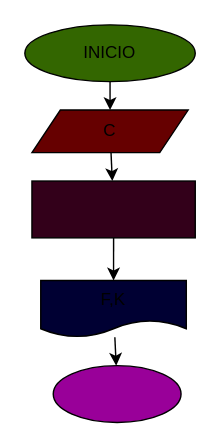
Some shapes in this 220 by 447 pixel diagram are drawn without their labels. Here are the shapes that lost their labels. From the top down, the centre of each, then its label:
pixel 113 209: F: 9/5C + 32 K: 273.15 + C
pixel 116 393: FIN
